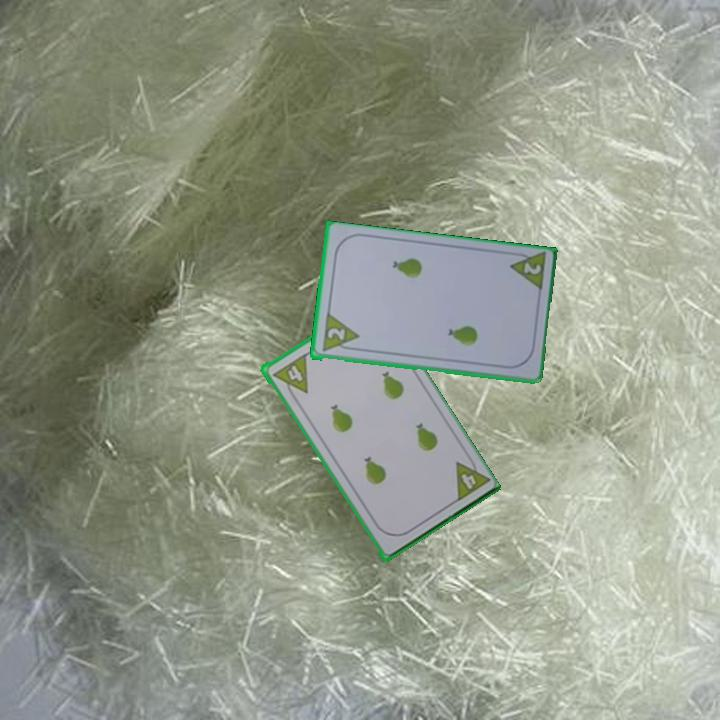2p: (323, 324, 348, 344), (520, 259, 544, 278)
4p: (281, 353, 311, 394), (457, 470, 479, 492)
